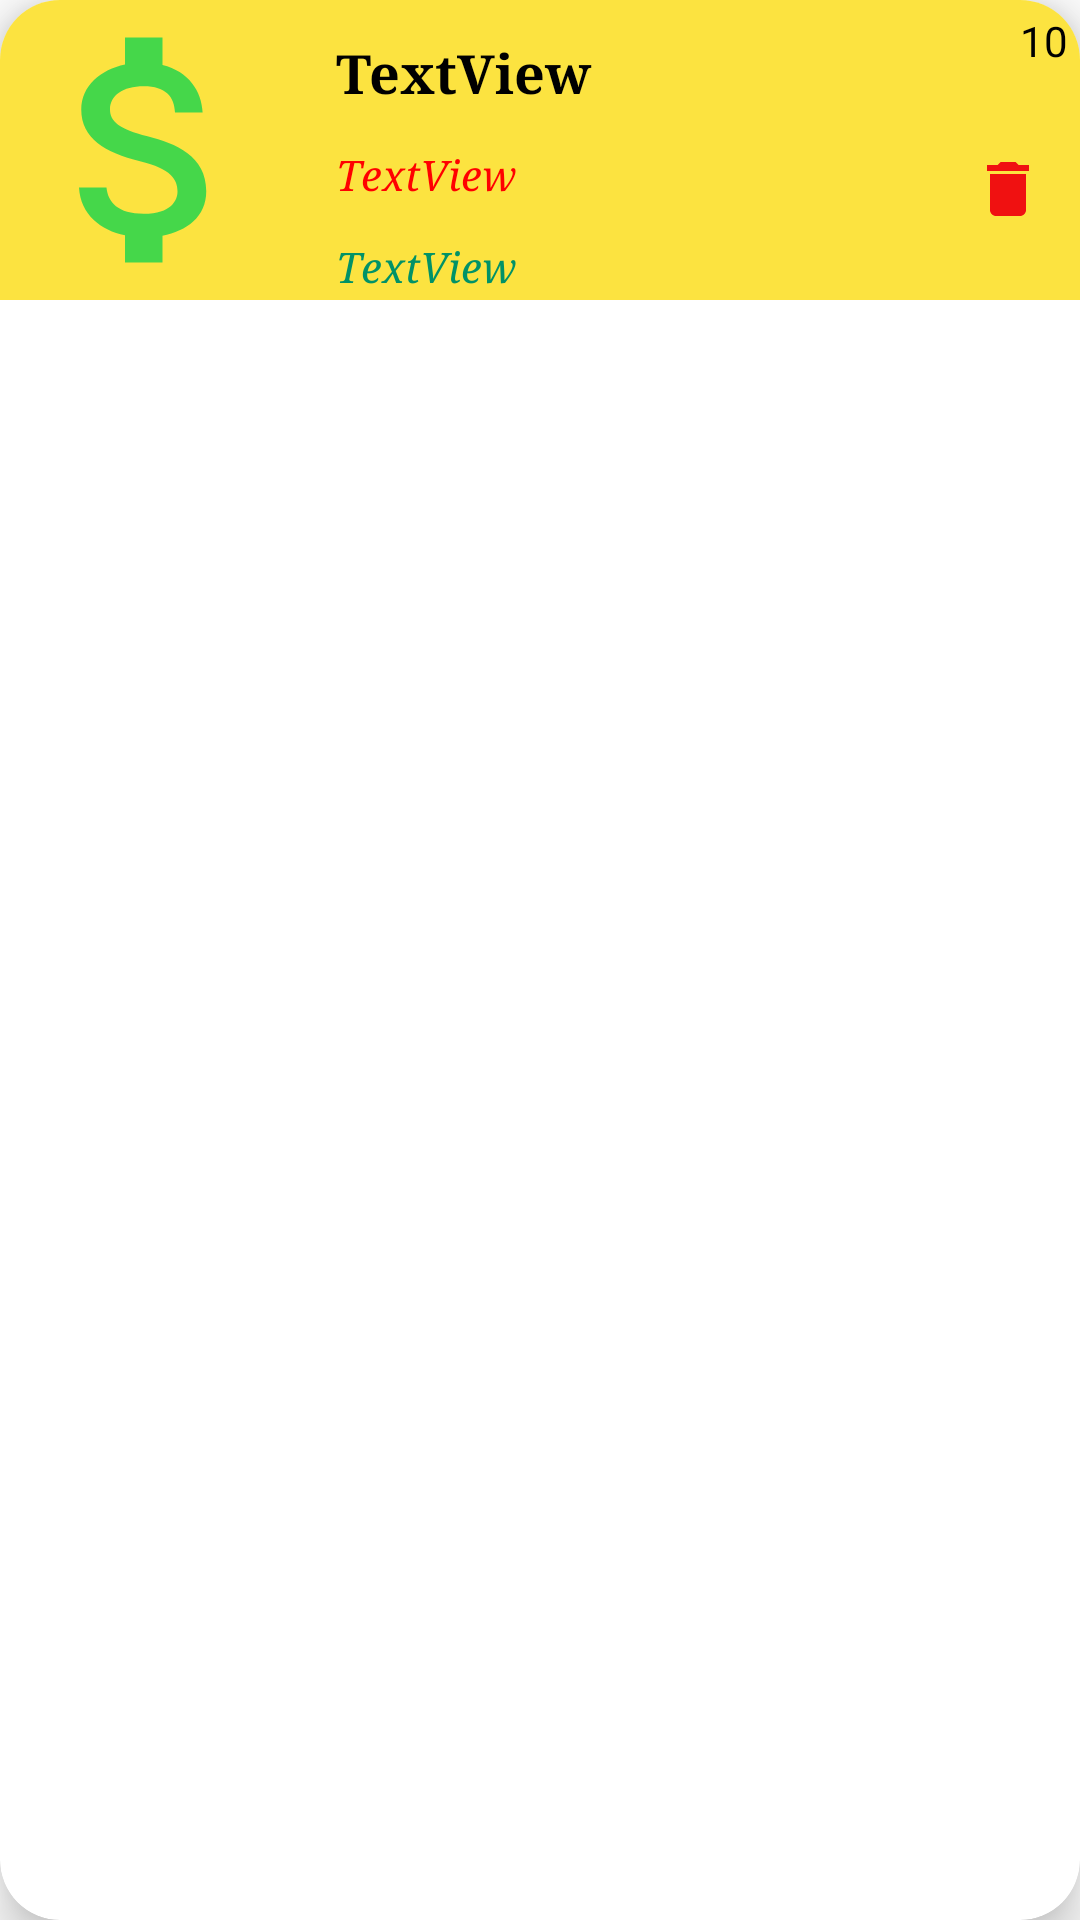

Point at icon controls on the screen. Image size 1080×1920, points as [x,y].
attach money: [103,131]
delete: [1008,189]
